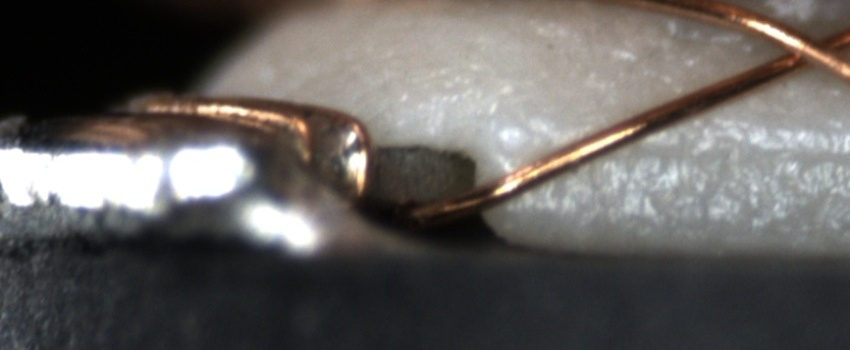CL: (763, 16, 848, 79)
DL: (627, 117, 849, 181)
TE: (109, 95, 376, 197)
